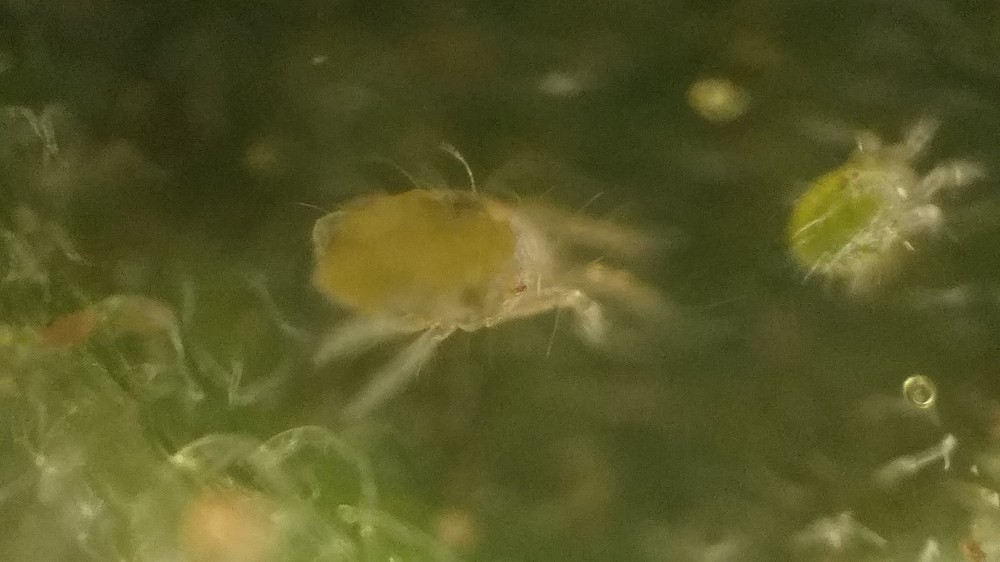Aracnido Rojo: (308, 82, 665, 439), (763, 98, 984, 319)
